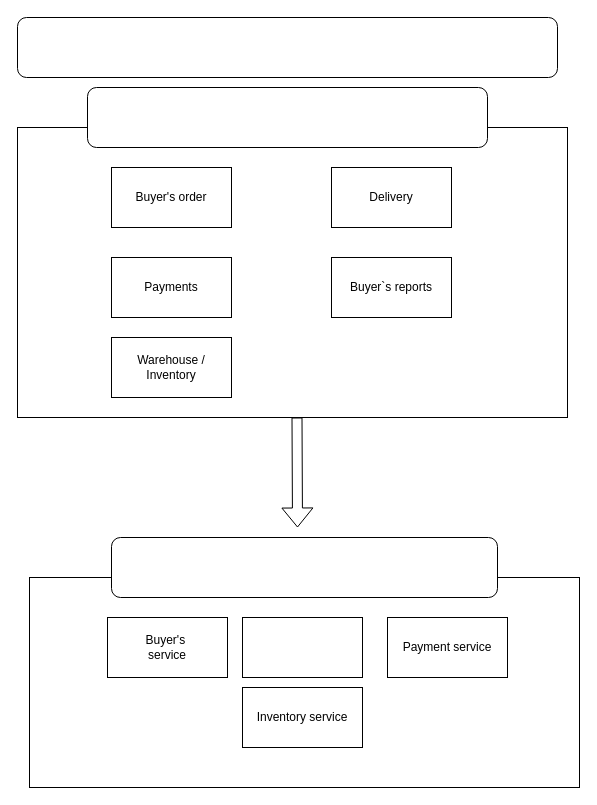
The diagram is 597 pixels wide and 805 high, and some of its shapes have lost their labels. Here are the shapes that lost their labels. From the top down, the box of each, then its label:
(16, 16, 558, 78): online-store
(86, 86, 488, 148): Business Capabilities Map
(110, 536, 498, 598): Application Architecture
(242, 616, 362, 678): Delivery Service
